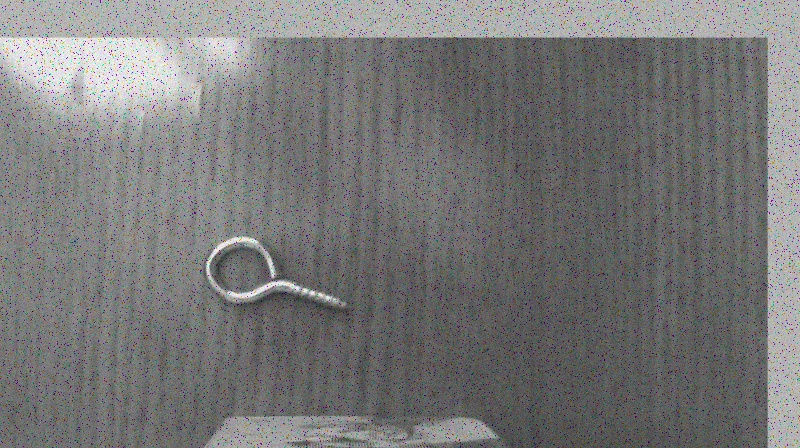O001: (194, 232, 358, 323)
